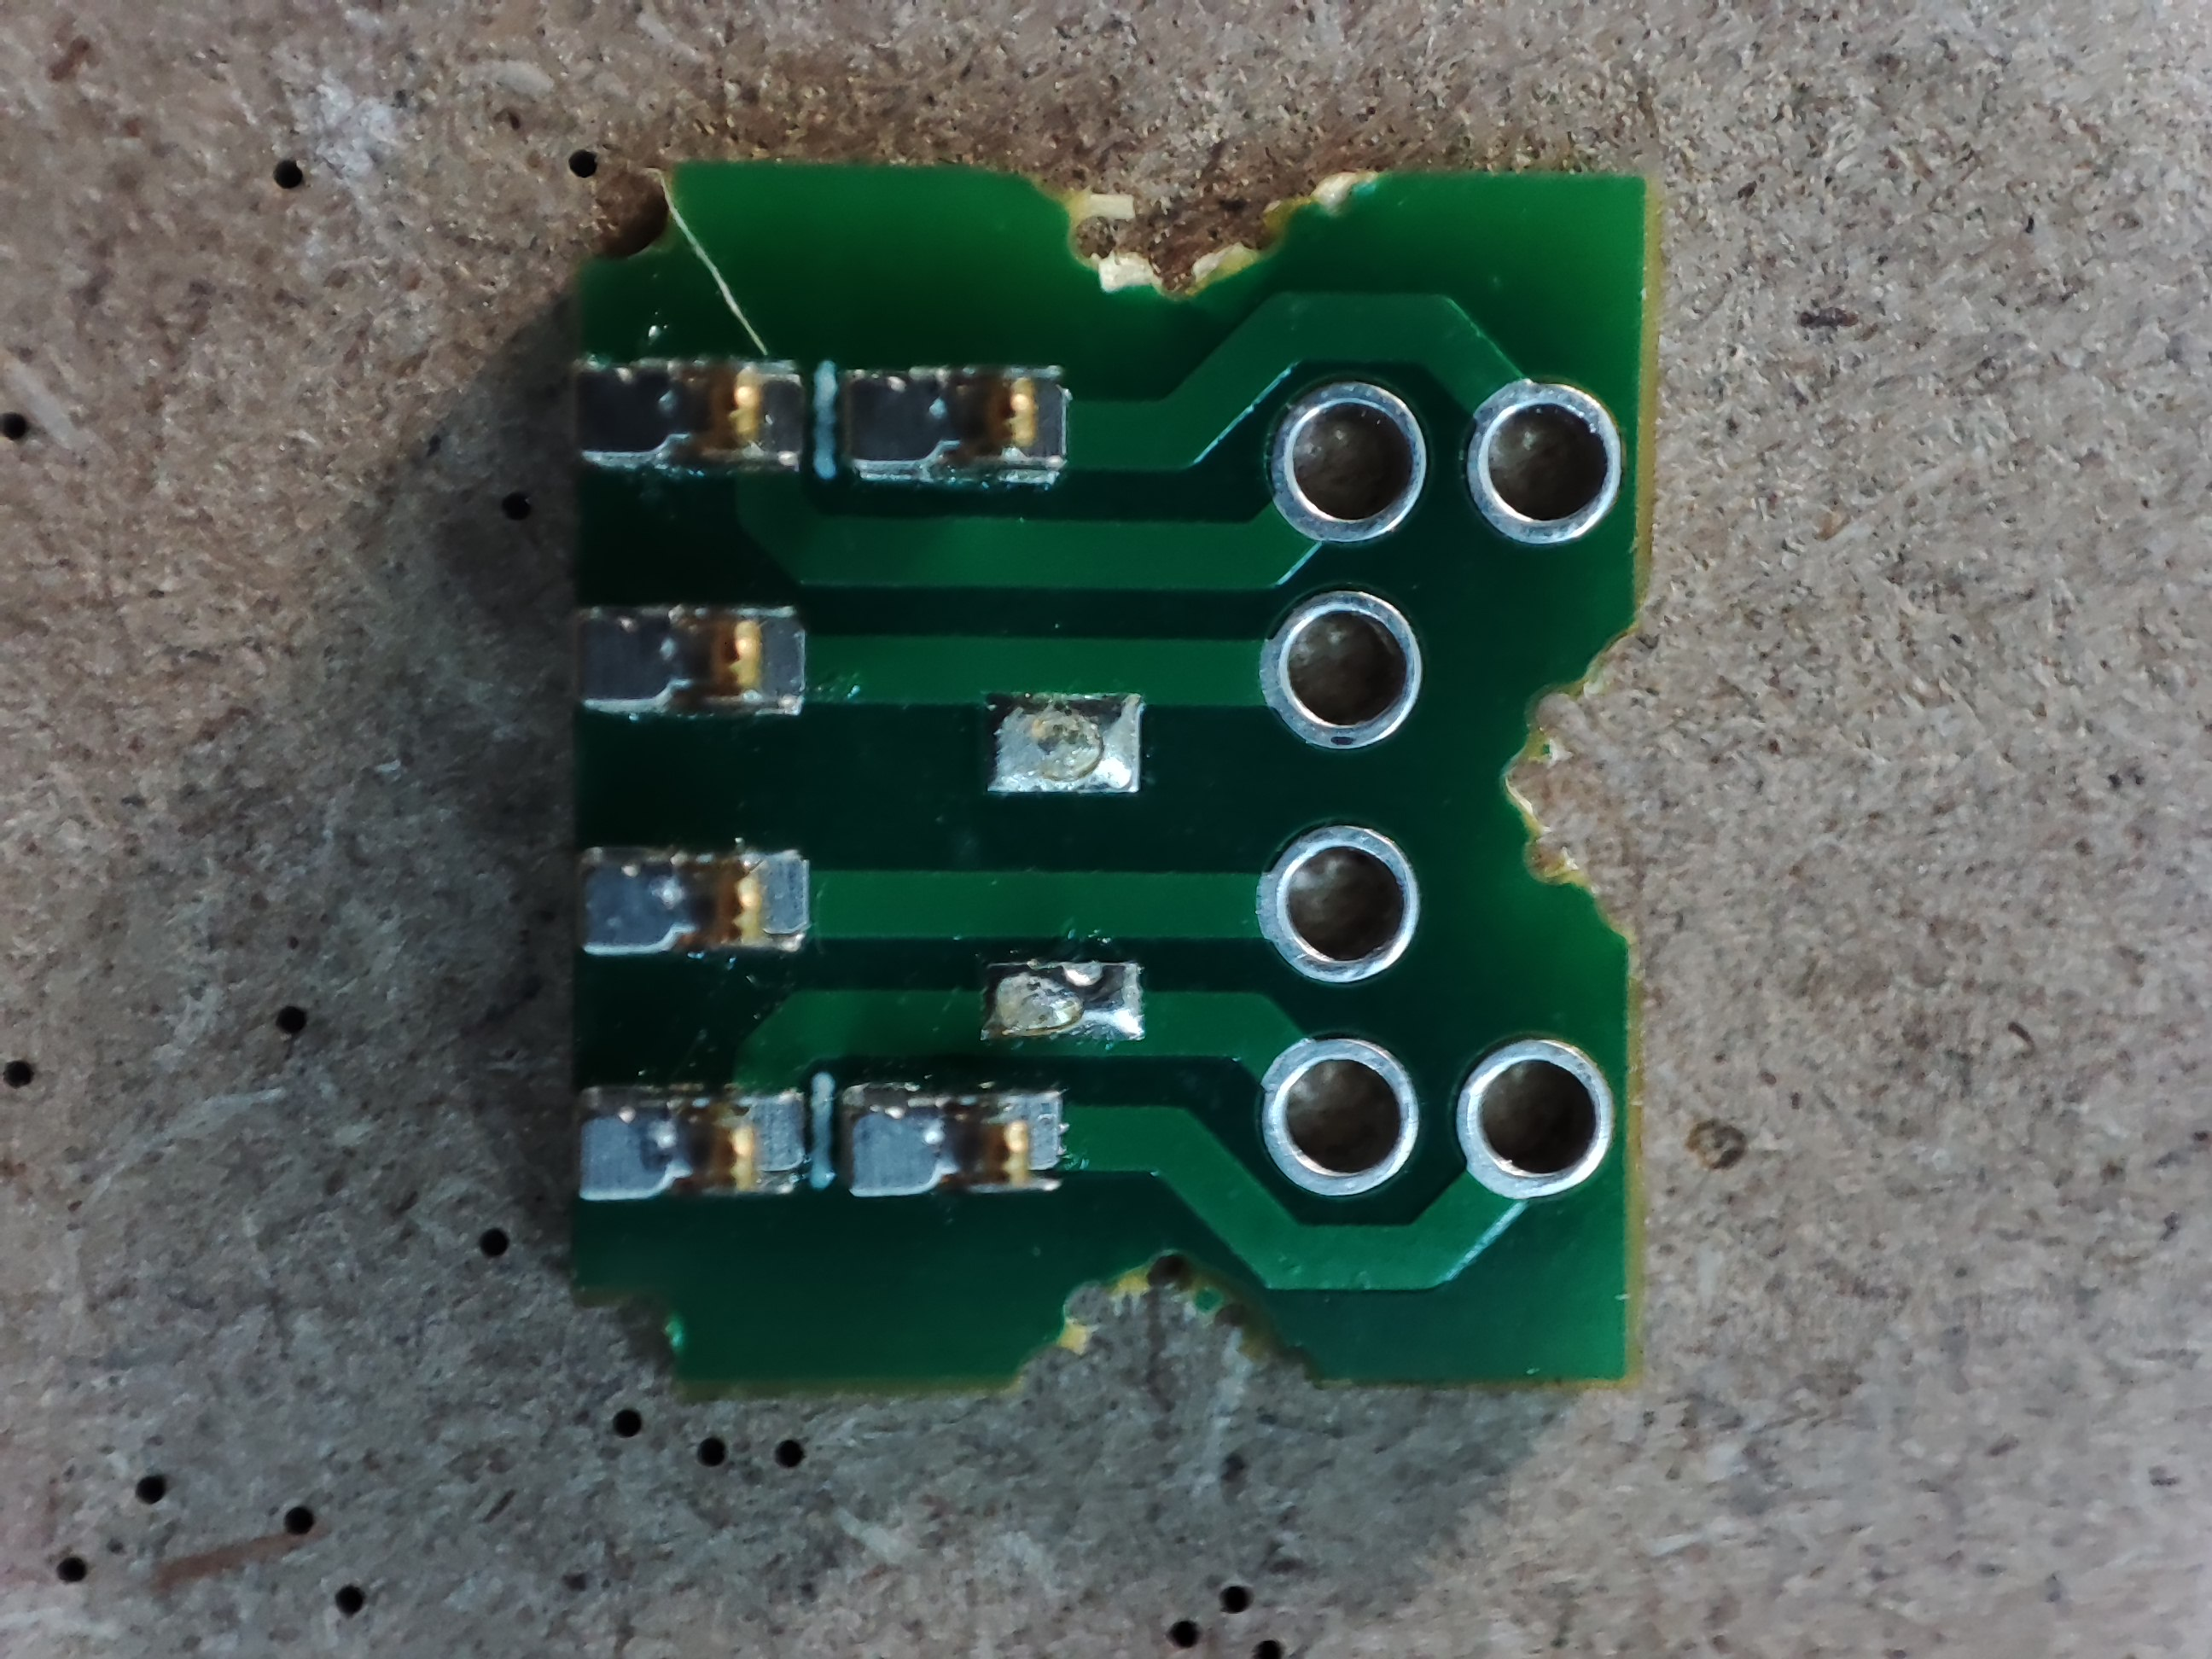PCB-MODEL-0: (545, 146, 1672, 1410)
normal-spring_finger: (547, 1054, 824, 1223), (836, 1063, 1096, 1239), (557, 582, 820, 739), (831, 347, 1082, 502), (568, 345, 819, 488), (570, 831, 819, 969)
normal-through: (1242, 823, 1444, 1007), (1242, 1025, 1432, 1215), (1252, 579, 1433, 767), (1456, 1028, 1629, 1225), (1463, 376, 1642, 558), (1256, 382, 1444, 552)
